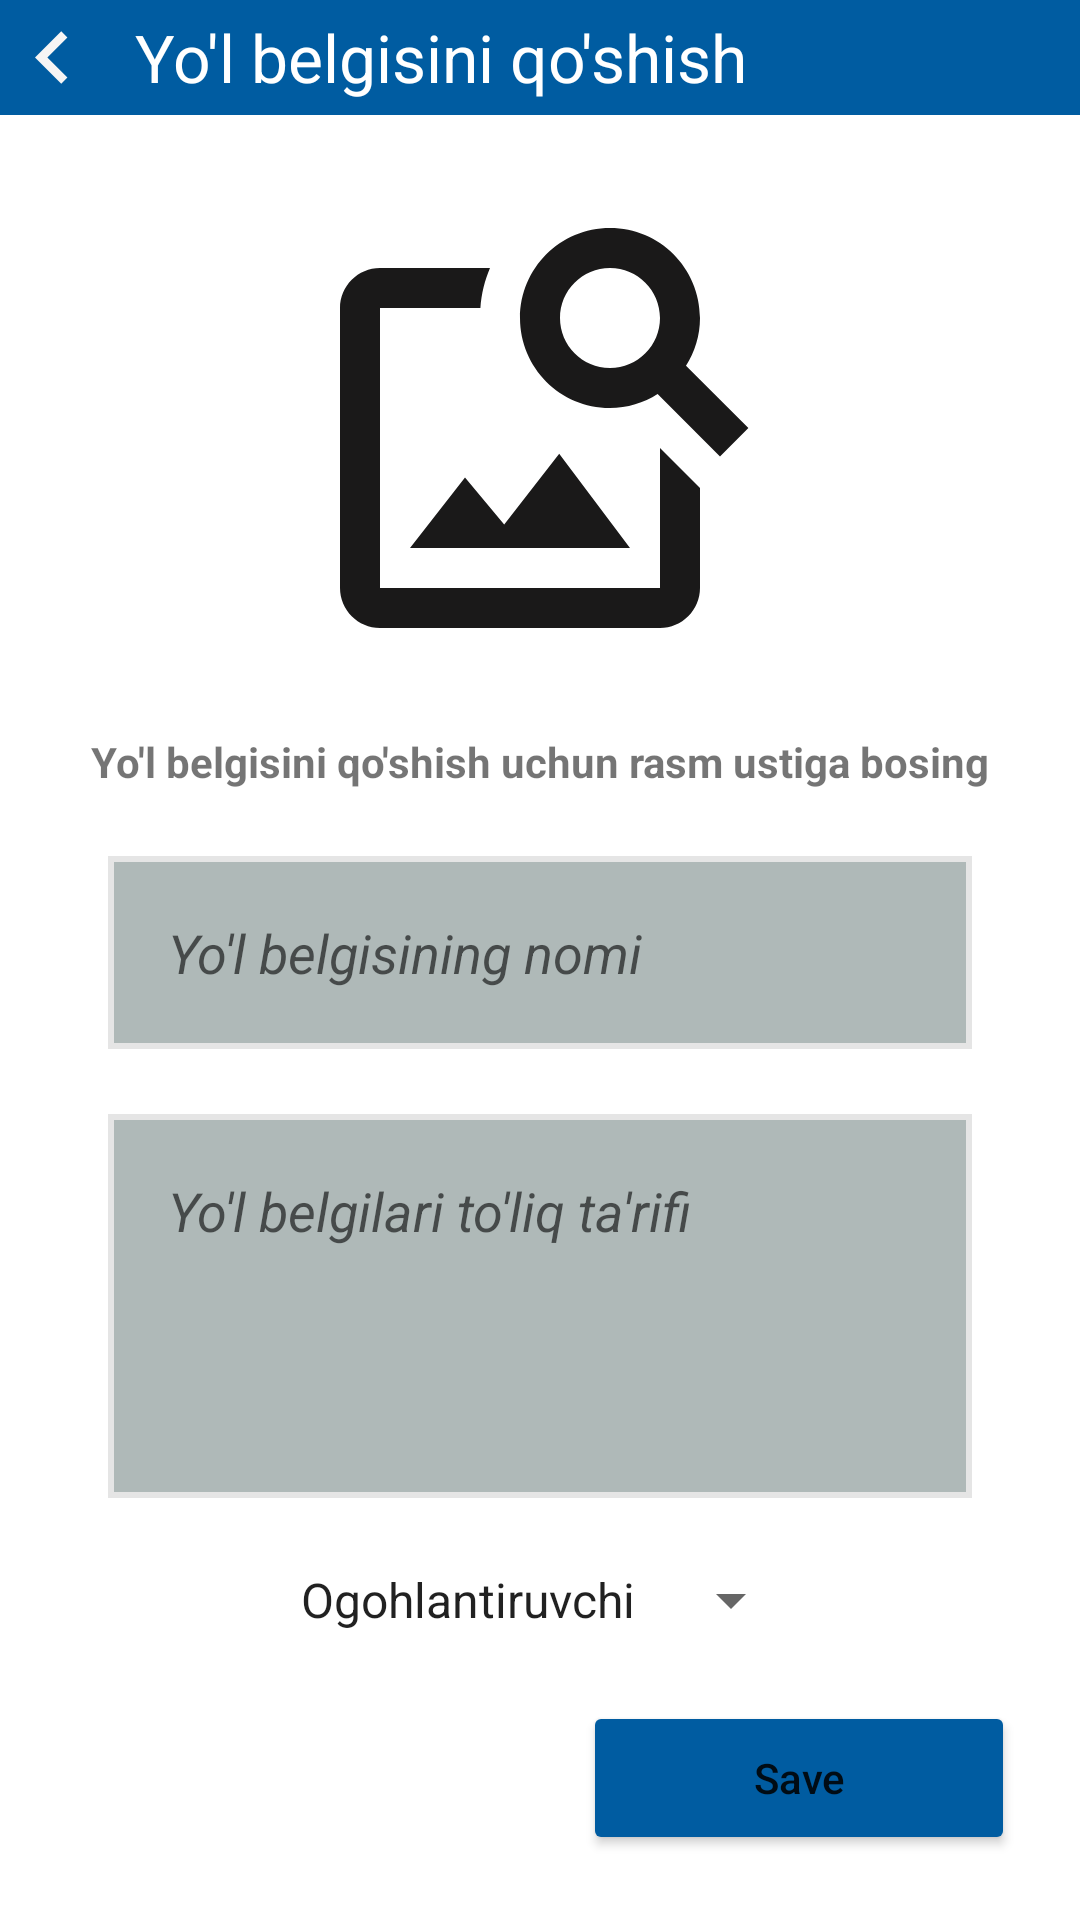

Named icons in this screenshot (1080px x 1920px) and their centers, (x=x, y=y):
chevron left: (x=51, y=57)
